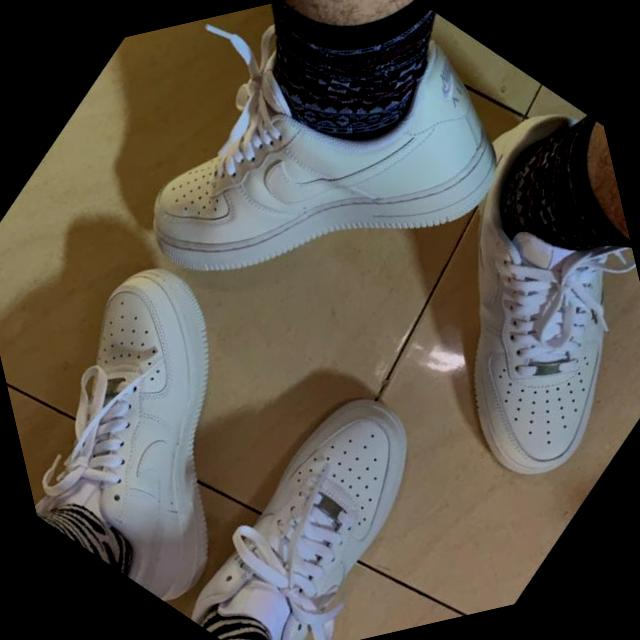nike_original_airforce: (74, 0, 611, 442), (0, 206, 386, 637), (313, 88, 640, 526), (139, 353, 486, 640)
